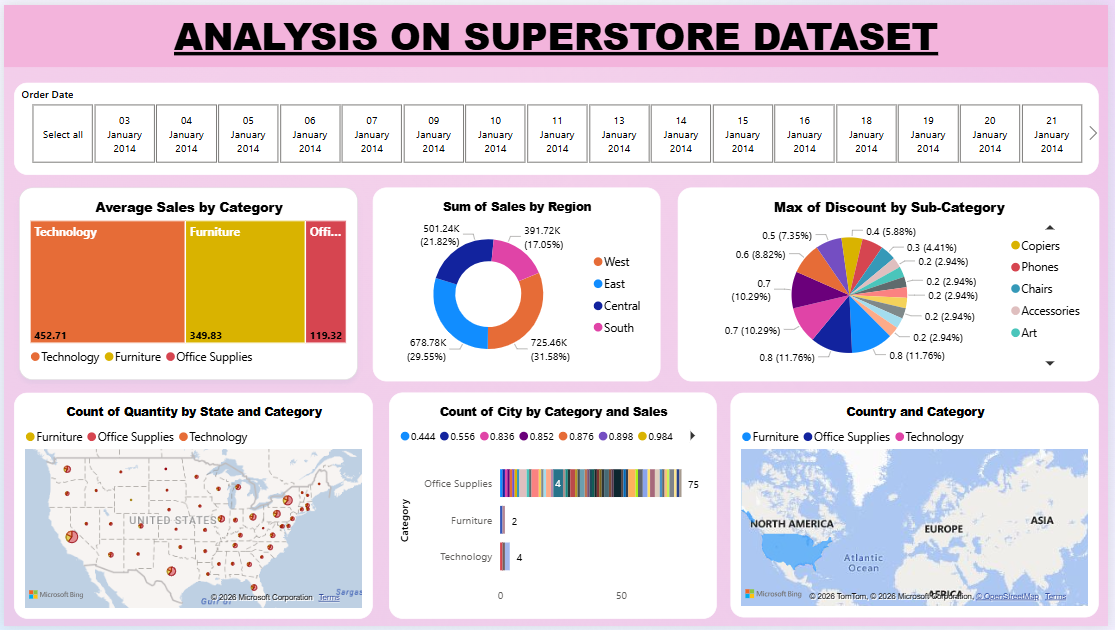

The dashboard page shown, as its layout file describes it:
{"tool":"powerbi","page":{"name":"Dashboard","canvas":[1280,720],"ordinal":0},"visuals":[{"type":"treemap","title":"Average Sales by Category","fields":{"Group":["Orders.Category"],"Values":["Avg(Orders.Sales)"]},"box":[17.4,211.6,392.8,223.2],"z":0},{"type":"map","fields":{"Category":["Orders.State"],"Size":["CountNonNull(Orders.Quantity)"],"Series":["Orders.Category"]},"box":[11.6,449.3,415.9,262.3],"z":1000},{"type":"pieChart","fields":{"Category":["Orders.Sub-Category"],"Y":["Max(Orders.Discount)"]},"box":[781.2,211.6,488.4,224.6],"z":2000},{"type":"barChart","fields":{"Category":["Orders.Category"],"Y":["CountNonNull(Orders.City)"],"Series":["Orders.Sales"]},"box":[446.4,449.3,379.7,262.3],"z":3000},{"type":"filledMap","fields":{"Series":["Orders.Category"],"Category":["Orders.Country"]},"box":[842,449.3,427.5,260.9],"z":4000},{"type":"donutChart","fields":{"Y":["Sum(Orders.Sales)"],"Category":["Orders.Region"]},"box":[427.5,211.6,333.3,224.6],"z":5000},{"type":"slicer","fields":{"Values":["Orders.Order Date"]},"box":[11.6,89.9,1258,107.2],"z":6000},{"type":"textbox","box":[0,0,1280.2,72.1],"z":7000}]}

Visuals, with their boxes in screenshot pixels (x1, y1, x2, y2), scaled from the page's 1280x720 canvas onto the 1115x630 screenshot:
"Average Sales by Category" treemap: select_region(15, 185, 357, 380)
map - Orders.State x CountNonNull(Orders.Quantity): select_region(10, 393, 372, 623)
pieChart - Orders.Sub-Category x Max(Orders.Discount): select_region(680, 185, 1106, 382)
barChart - Orders.Category x CountNonNull(Orders.City): select_region(389, 393, 720, 623)
filledMap - Orders.Category x Orders.Country: select_region(733, 393, 1106, 621)
donutChart - Sum(Orders.Sales) x Orders.Region: select_region(372, 185, 663, 382)
slicer - Orders.Order Date: select_region(10, 79, 1106, 172)
textbox: select_region(0, 0, 1114, 63)
